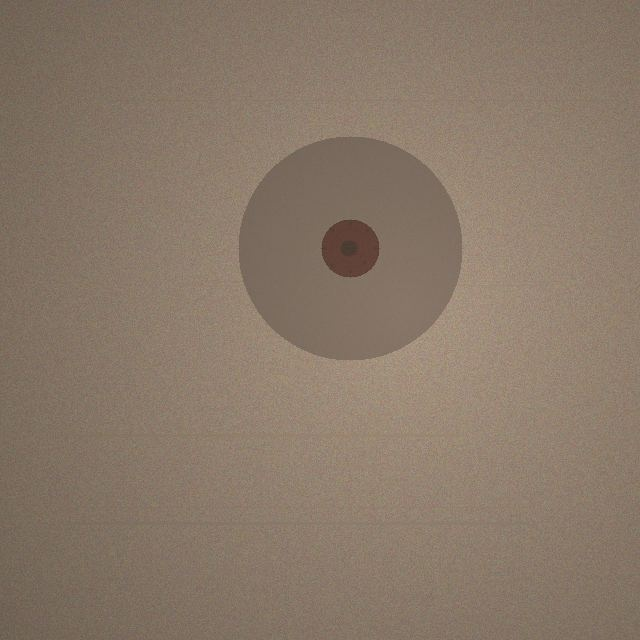cold_weld: (238, 136, 462, 360)
